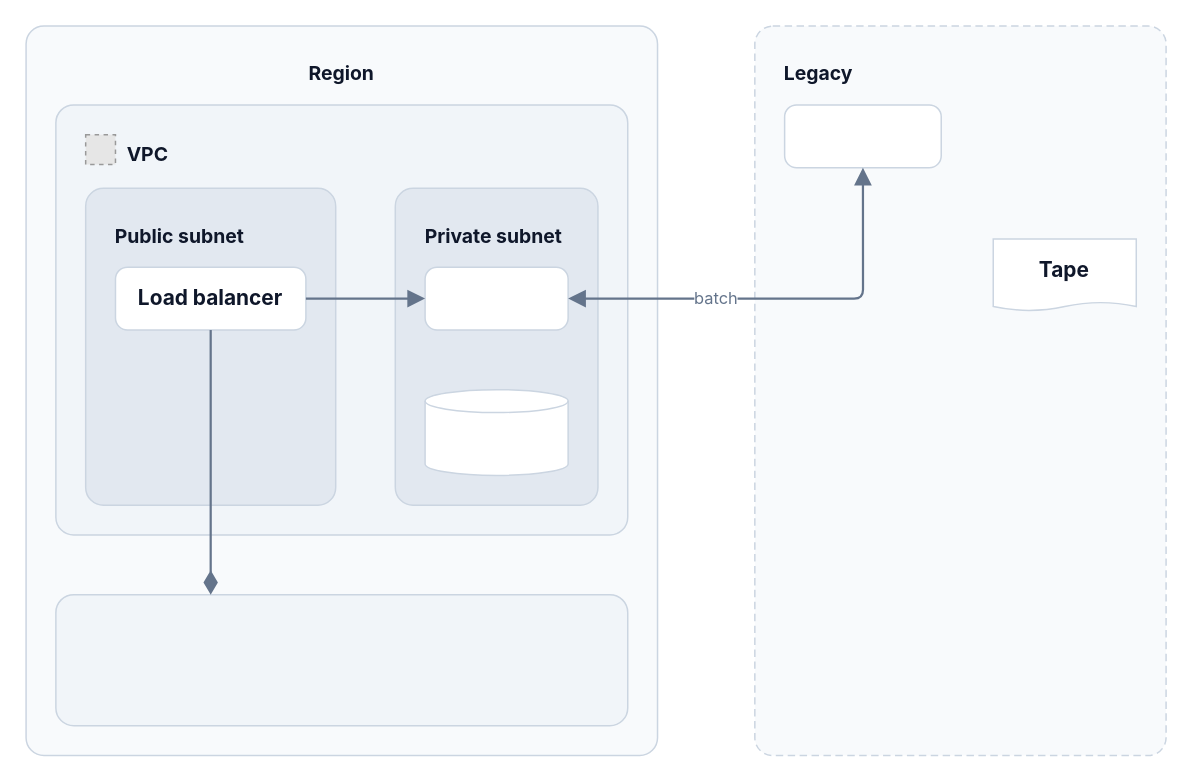
Image size: 1193x782. Some labels were removed from this diagram. Grey dashed boxes stand in for pictures. Each missing label, with the centre of its shape:
"Cache" goes at [496,431].
"Mainframe" goes at [862,135].
"Reserved" goes at [341,659].
"Service" goes at [496,298].
